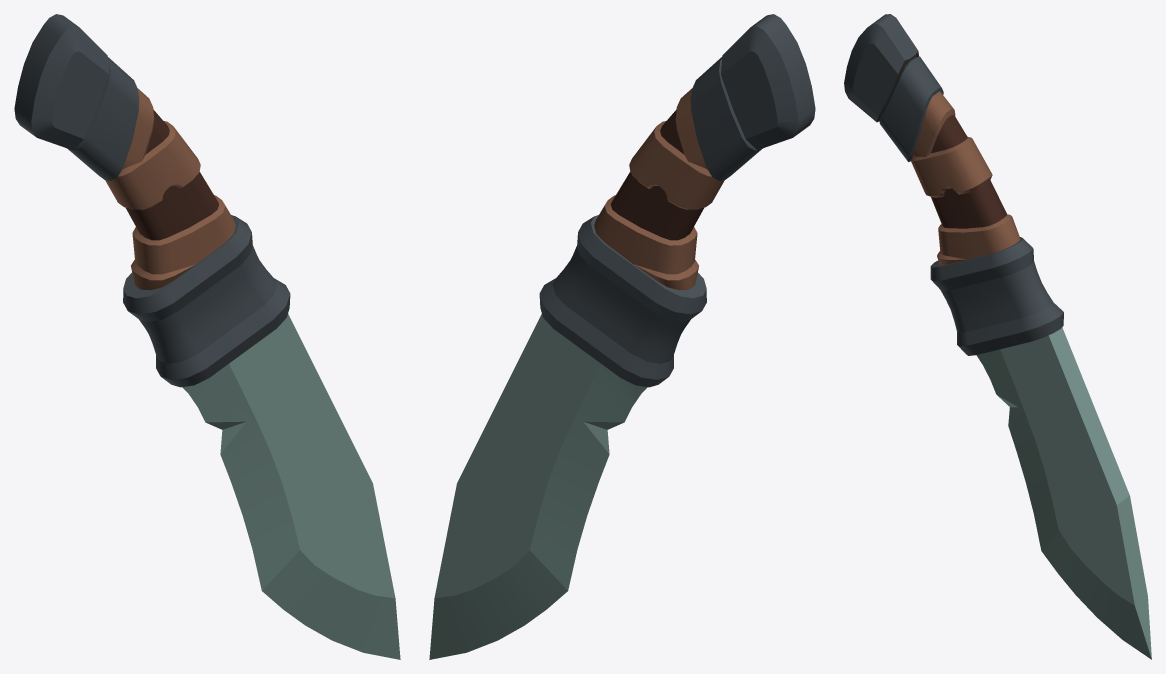
File: Pugnale.fbx
3 views of the same model, side by side, from view 1: azimuth 30°, elevation 25°; view 2: azimuth 150°, elevation 25°; view 3: azimuth 330°, elevation 25° (orthographic). The views are drawn at different scales.
Visible parts, largest first — view 1: Pugnale; view 2: Pugnale; view 3: Pugnale.
Part boxes in pixels (box(x1,y1,x2,y2)): Pugnale: box(14, 14, 400, 659); Pugnale: box(429, 14, 815, 659); Pugnale: box(844, 14, 1151, 659).
Size of the model in its own units: 19.69 by 35.95 by 3.16.
